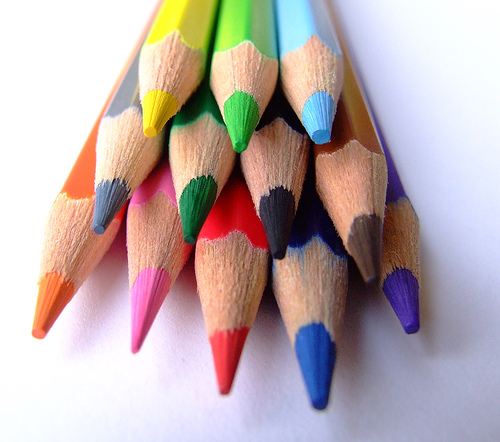pen_tip: (205, 33, 283, 162), (280, 26, 351, 162), (133, 27, 206, 141)
